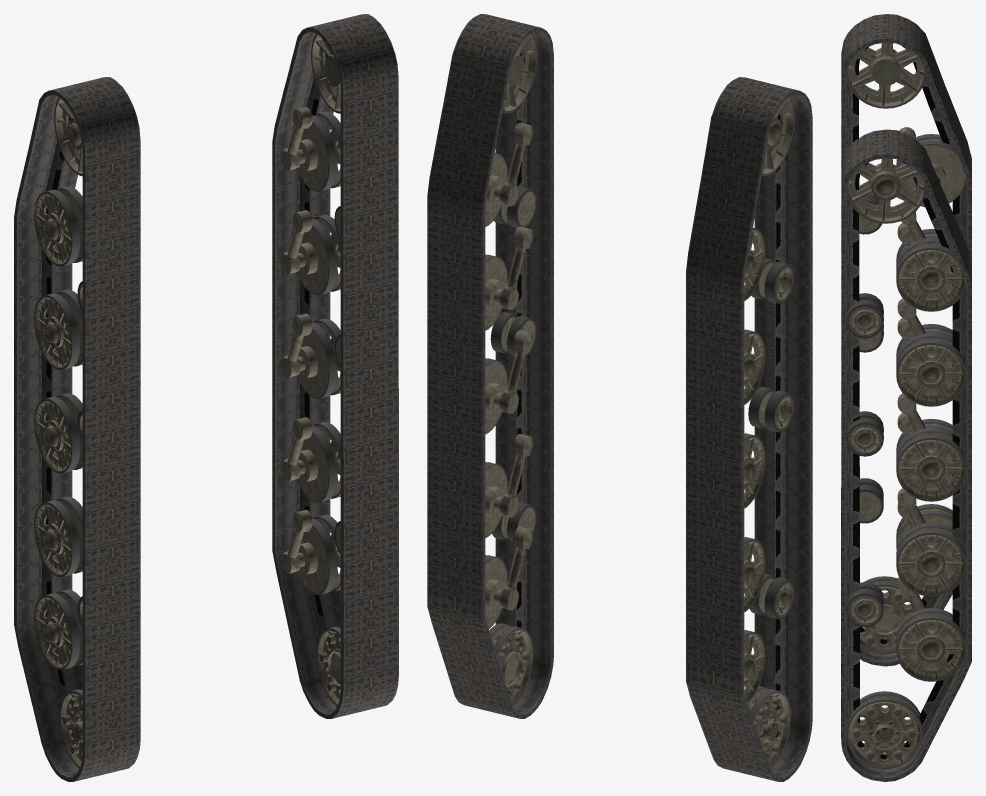
The model's file is Chassis.glb.
3 renders of one model, left to right at view 1: azimuth 30°, elevation 25°; view 2: azimuth 150°, elevation 25°; view 3: azimuth 270°, elevation 25°, orthographic. The views are drawn at different scales.
Parts seen in each view (by area): view 1: set_1_group_0, set_0_group_0, set_3_group_0, set_2_group_0; view 2: set_1_group_0, set_0_group_0, set_3_group_0, set_2_group_0; view 3: set_3_group_0, set_0_group_0, set_2_group_0, set_1_group_0.
Part boxes in pixels (x1=…): set_1_group_0: x1=14, y1=77, x2=140, y2=781; set_0_group_0: x1=272, y1=14, x2=398, y2=718; set_3_group_0: x1=280, y1=34, x2=340, y2=706; set_2_group_0: x1=34, y1=97, x2=82, y2=768; set_1_group_0: x1=686, y1=77, x2=812, y2=781; set_0_group_0: x1=427, y1=14, x2=553, y2=718; set_3_group_0: x1=485, y1=34, x2=537, y2=705; set_2_group_0: x1=744, y1=97, x2=794, y2=768; set_3_group_0: x1=846, y1=158, x2=966, y2=769; set_0_group_0: x1=841, y1=129, x2=971, y2=781; set_2_group_0: x1=846, y1=42, x2=965, y2=654; set_1_group_0: x1=841, y1=14, x2=971, y2=666.
Bounding box in the file's own units: 2.83 × 5.9 × 1.11.
Materials: 4 (4 with a texture image).
